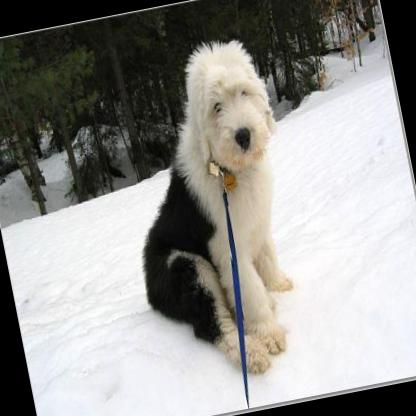Old_English_sheepdog: (101, 32, 320, 392)
